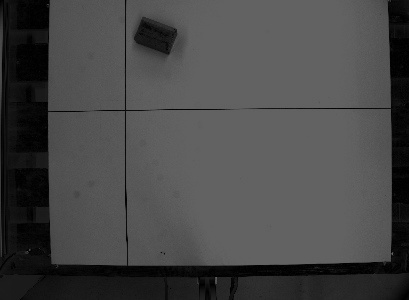b1: (132, 13, 180, 56)
